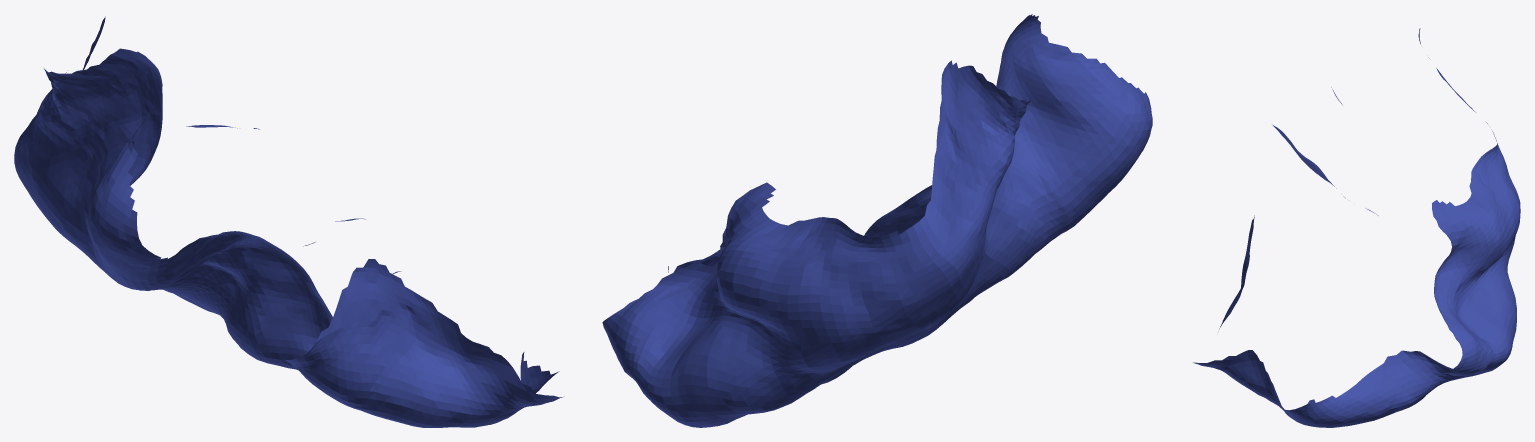
File: lh_lateraloccipital.glb
3 views of the same model, side by side, from view 1: azimuth 30°, elevation 25°; view 2: azimuth 150°, elevation 25°; view 3: azimuth 270°, elevation 25° (orthographic). The views are drawn at different scales.
Parts seen in each view (by area): view 1: world; view 2: world; view 3: world.
Boxes of the visible parts, <box> form: world: <box>14,16,564,427</box>; world: <box>602,14,1152,427</box>; world: <box>1193,28,1520,427</box>.
Bounding box in the file's own units: 47.23 × 41.28 × 42.7.
